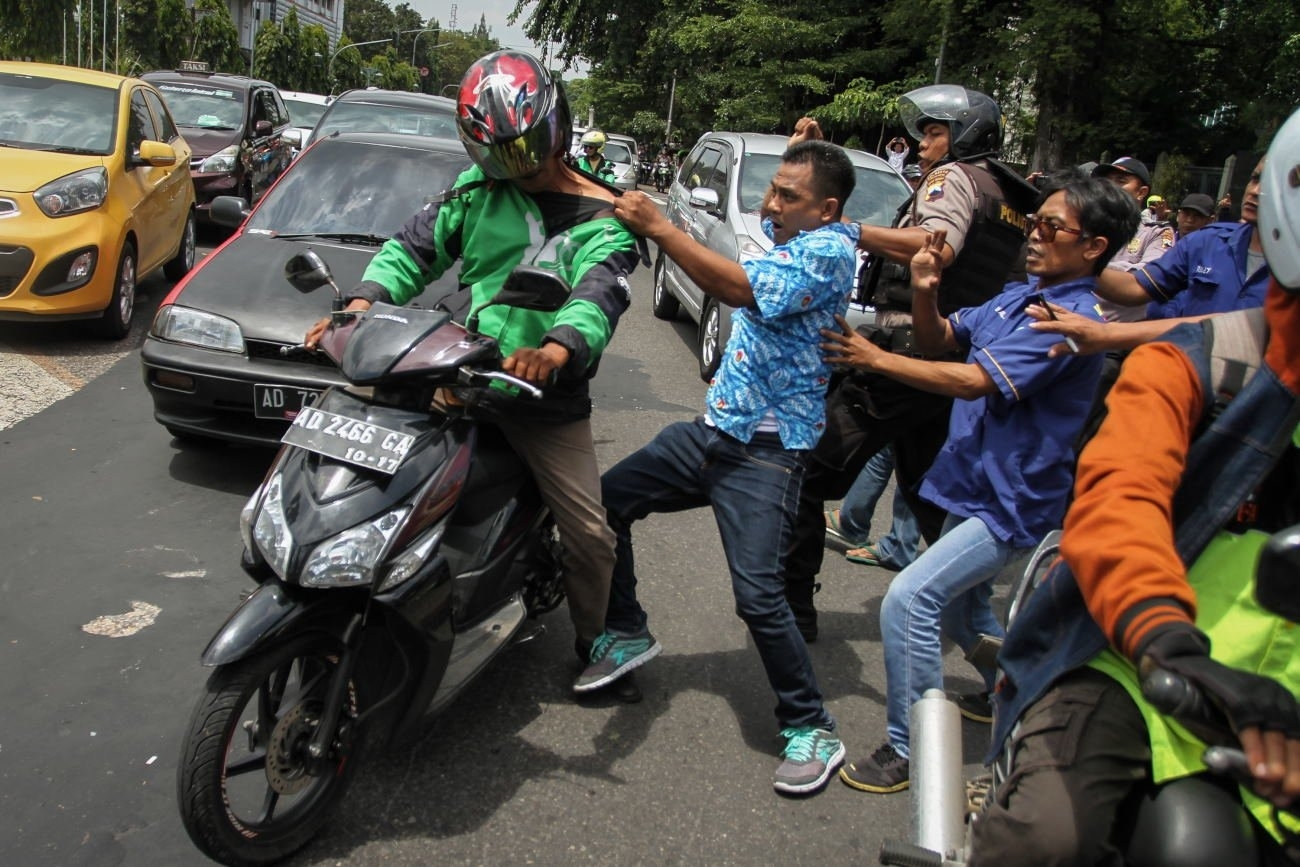plate: (286, 406, 410, 479), (259, 386, 339, 422)
